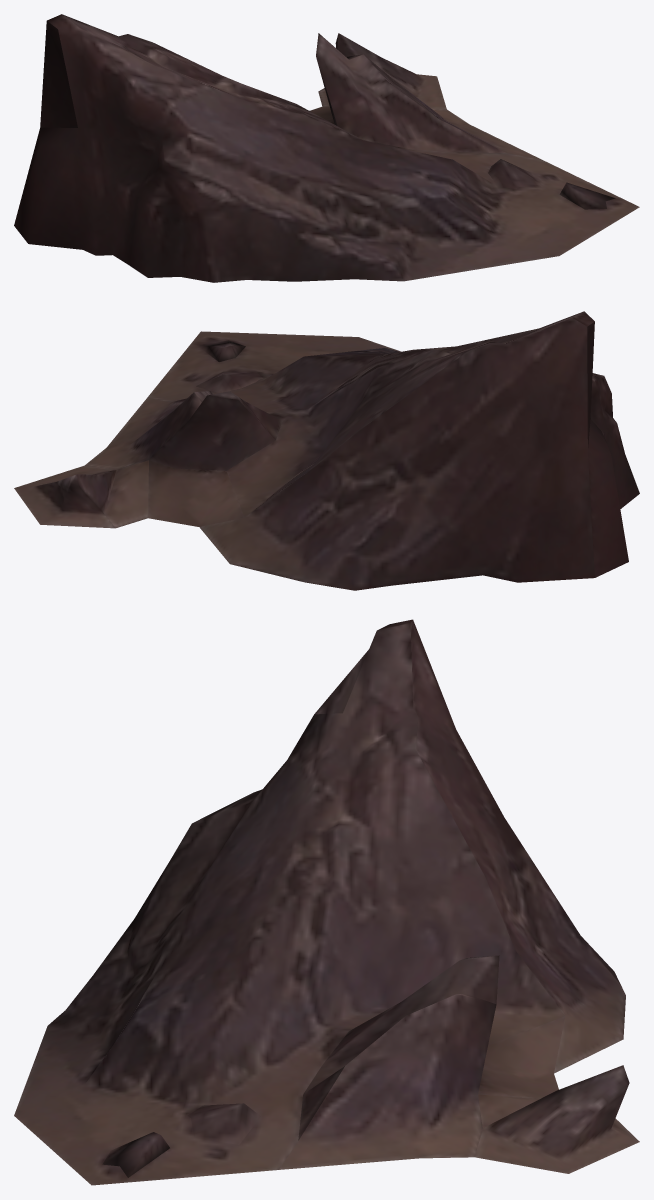
The model's file is sysd_stone04b.FBX.
3 renders of one model, top to bottom at view 1: azimuth 30°, elevation 25°; view 2: azimuth 150°, elevation 25°; view 3: azimuth 270°, elevation 25°, orthographic. The views are drawn at different scales.
Parts seen in each view (by area): view 1: sysd_stone04b; view 2: sysd_stone04b; view 3: sysd_stone04b.
Boxes of the visible parts, left/top/right/bottom form: sysd_stone04b: left=14, top=14, right=639, bottom=282; sysd_stone04b: left=14, top=311, right=639, bottom=590; sysd_stone04b: left=14, top=619, right=639, bottom=1185.
Size of the model in its own units: 1057 by 434 by 894.
